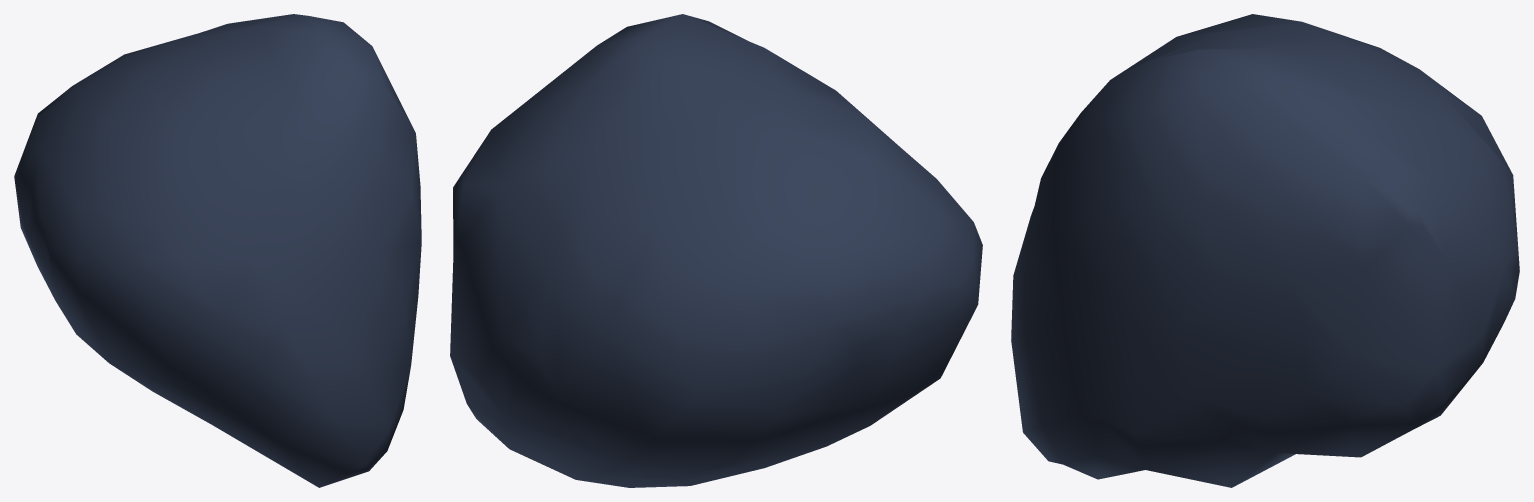
The model's file is Rock_11.fbx.
The picture shows the model from 3 angles, left to right: view 1: azimuth 30°, elevation 25°; view 2: azimuth 150°, elevation 25°; view 3: azimuth 270°, elevation 25°; orthographic projection. The views are drawn at different scales.
Visible parts, largest first — view 1: Rock 11; view 2: Rock 11; view 3: Rock 11.
Part boxes in pixels (x1,y1,x2,y2): Rock 11: (14, 14, 421, 487); Rock 11: (450, 14, 982, 487); Rock 11: (1011, 14, 1519, 487).
Bounding box in the file's own units: 118 × 121 × 128.
